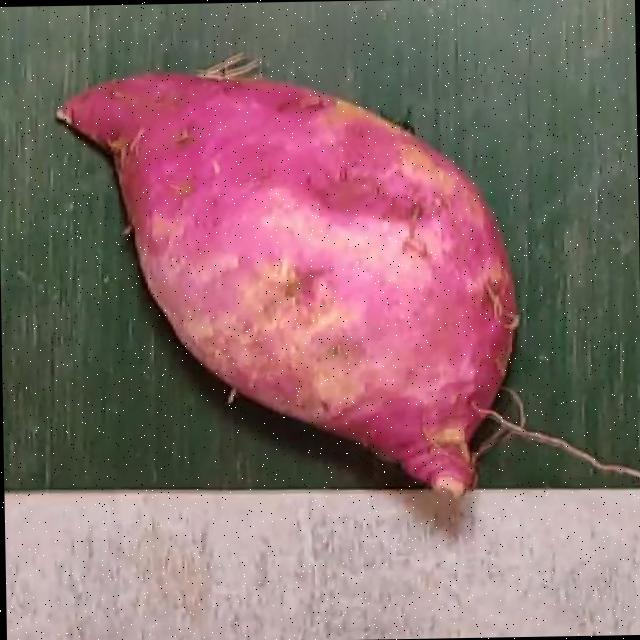Sweet Potato: (54, 52, 515, 494)
